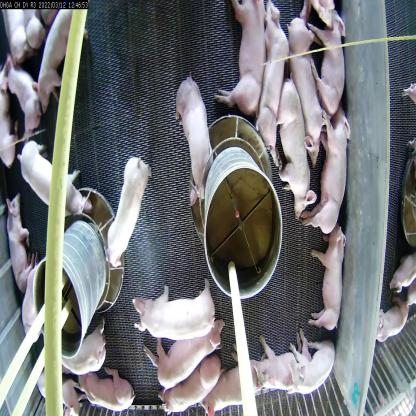Pig: (276, 64, 316, 218), (310, 109, 352, 255), (132, 284, 224, 350), (290, 21, 334, 156), (102, 152, 152, 262), (223, 0, 262, 128), (38, 15, 91, 108), (23, 137, 83, 216), (262, 5, 287, 158), (2, 195, 33, 318), (317, 0, 350, 113), (158, 327, 225, 381), (312, 226, 346, 330), (167, 363, 222, 415), (10, 58, 45, 132), (293, 332, 329, 394), (205, 369, 252, 416), (251, 351, 295, 399), (20, 272, 47, 336), (90, 375, 133, 415), (63, 345, 102, 386)
